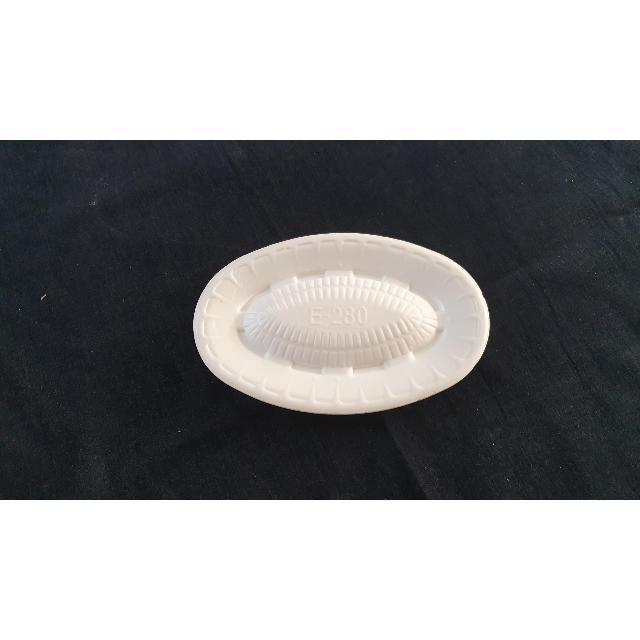Recipiente plastico: (194, 232, 490, 414)
